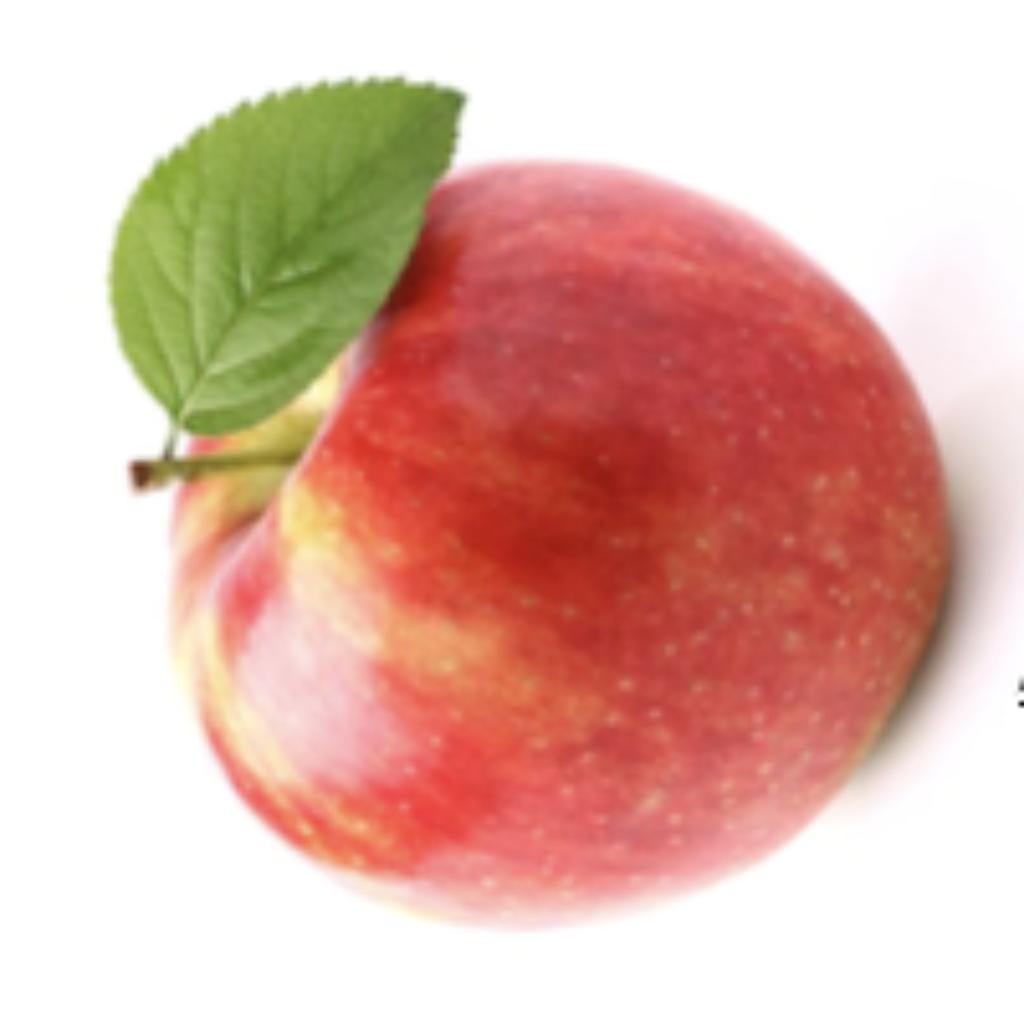apple: (97, 67, 1014, 937)
